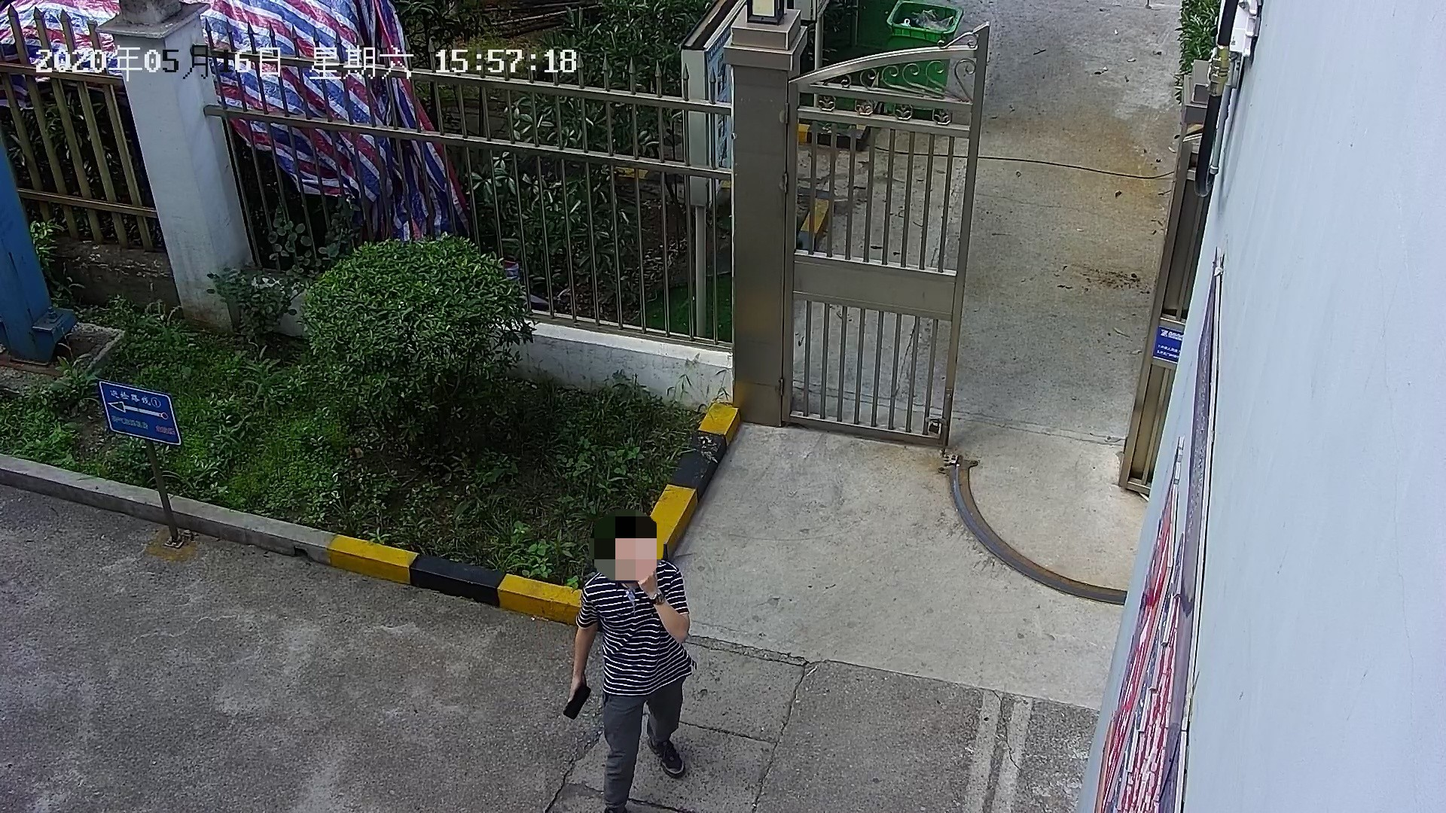head: (597, 514, 651, 577)
person: (563, 510, 692, 812)
